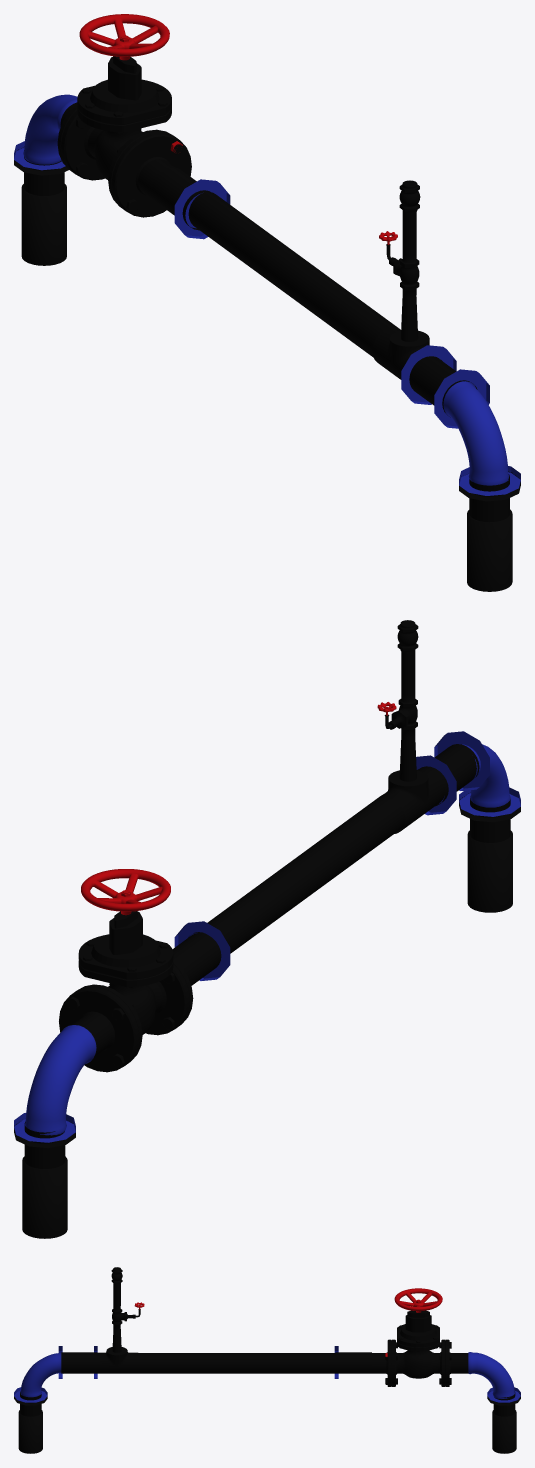
File: TuberiaInteractiva (1).fbx
The picture shows the model from 3 angles, top to bottom: view 1: azimuth 30°, elevation 25°; view 2: azimuth 150°, elevation 25°; view 3: azimuth 270°, elevation 25°; orthographic projection. The views are drawn at different scales.
Parts seen in each view (by area): view 1: pipe_valve_large_metal, pipe_200cm_pvc, pipe_thin_turn_short_pvc, pipe_thin_10cm_pvc.003, pipe_thin_10cm_pvc.005, pipe_valve_large_metal.001, pipe_junction_t_pvc, pipe_thin_turn_short_pvc.001, pipe_thin_10cm_pvc, pipe_thin_10cm_pvc.001, Circle.003, pipe_thin_10cm_pvc.002 (+5 smaller); view 2: pipe_valve_large_metal, pipe_200cm_pvc, pipe_thin_turn_short_pvc.001, pipe_thin_10cm_pvc.005, pipe_thin_10cm_pvc.003, pipe_junction_t_pvc, pipe_valve_large_metal.001, pipe_thin_10cm_pvc.001, pipe_thin_turn_short_pvc, pipe_thin_10cm_pvc, pipe_thin_10cm_pvc.004, Circle.001 (+4 smaller); view 3: pipe_200cm_pvc, pipe_valve_large_metal, pipe_thin_turn_short_pvc.001, pipe_junction_t_pvc, pipe_thin_turn_short_pvc, pipe_thin_10cm_pvc.005, pipe_thin_10cm_pvc.003, pipe_thin_10cm_pvc.001, pipe_thin_10cm_pvc, pipe_valve_large_metal.001, pipe_thin_10cm_pvc.002, pipe_thin_10cm_pvc.004 (+1 smaller).
Part boxes in pixels (box(x1,y1,x2,y2)): pipe_valve_large_metal: box(57, 56, 191, 217); pipe_200cm_pvc: box(188, 192, 400, 357); pipe_thin_turn_short_pvc: box(443, 381, 509, 485); pipe_thin_10cm_pvc.003: box(467, 509, 512, 591); pipe_thin_10cm_pvc.005: box(21, 184, 66, 265); pipe_valve_large_metal.001: box(79, 14, 169, 60); pipe_junction_t_pvc: box(372, 295, 441, 379); pipe_thin_turn_short_pvc.001: box(23, 94, 77, 164); pipe_thin_10cm_pvc: box(409, 356, 477, 417); pipe_thin_10cm_pvc.001: box(151, 167, 210, 230); Circle.003: box(174, 179, 230, 239); pipe_thin_10cm_pvc.002: box(469, 474, 509, 522); pipe_valve_large_metal: box(59, 911, 193, 1072); pipe_200cm_pvc: box(188, 793, 405, 953); pipe_thin_turn_short_pvc.001: box(25, 1025, 96, 1135); pipe_thin_10cm_pvc.005: box(22, 1156, 67, 1238); pipe_thin_10cm_pvc.003: box(467, 830, 512, 912); pipe_junction_t_pvc: box(384, 735, 445, 833); pipe_valve_large_metal.001: box(81, 869, 170, 915); pipe_thin_10cm_pvc.001: box(172, 933, 221, 985); pipe_thin_turn_short_pvc: box(462, 744, 510, 807); pipe_thin_10cm_pvc: box(420, 744, 479, 806); pipe_thin_10cm_pvc.004: box(24, 1121, 65, 1168); Circle.001: box(434, 731, 489, 790); pipe_200cm_pvc: box(133, 1353, 335, 1373); pipe_valve_large_metal: box(372, 1310, 468, 1386); pipe_thin_turn_short_pvc.001: box(468, 1352, 514, 1398); pipe_junction_t_pvc: box(96, 1328, 138, 1373); pipe_thin_turn_short_pvc: box(20, 1353, 61, 1397); pipe_thin_10cm_pvc.005: box(492, 1410, 516, 1453); pipe_thin_10cm_pvc.003: box(18, 1410, 42, 1453); pipe_thin_10cm_pvc.001: box(335, 1352, 371, 1373); pipe_thin_10cm_pvc: box(61, 1352, 97, 1373); pipe_valve_large_metal.001: box(394, 1288, 442, 1312); pipe_thin_10cm_pvc.002: box(20, 1391, 41, 1416); pipe_thin_10cm_pvc.004: box(493, 1391, 515, 1416).
Bounding box in the file's own units: 40.59 × 161 × 410.
